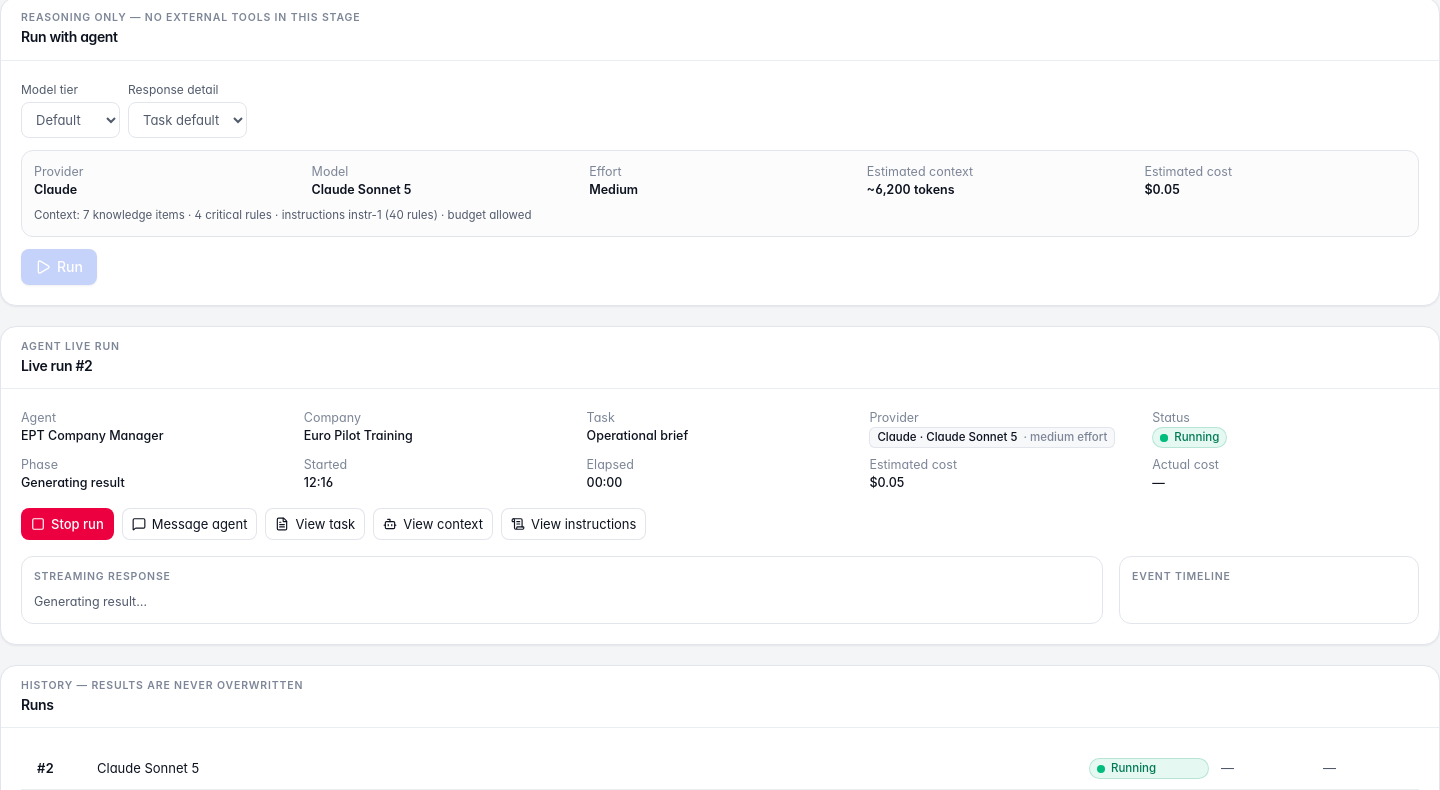
Test: Task run panel › shows history, a failed run and stops an active run
The width and height of the screenshot is (1440, 790).
What coordinates should you click on to do the following:
click the button "Stop run"
I would click on:
 (67, 524)
Its box is [21,508,114,540].
(page scrolled)
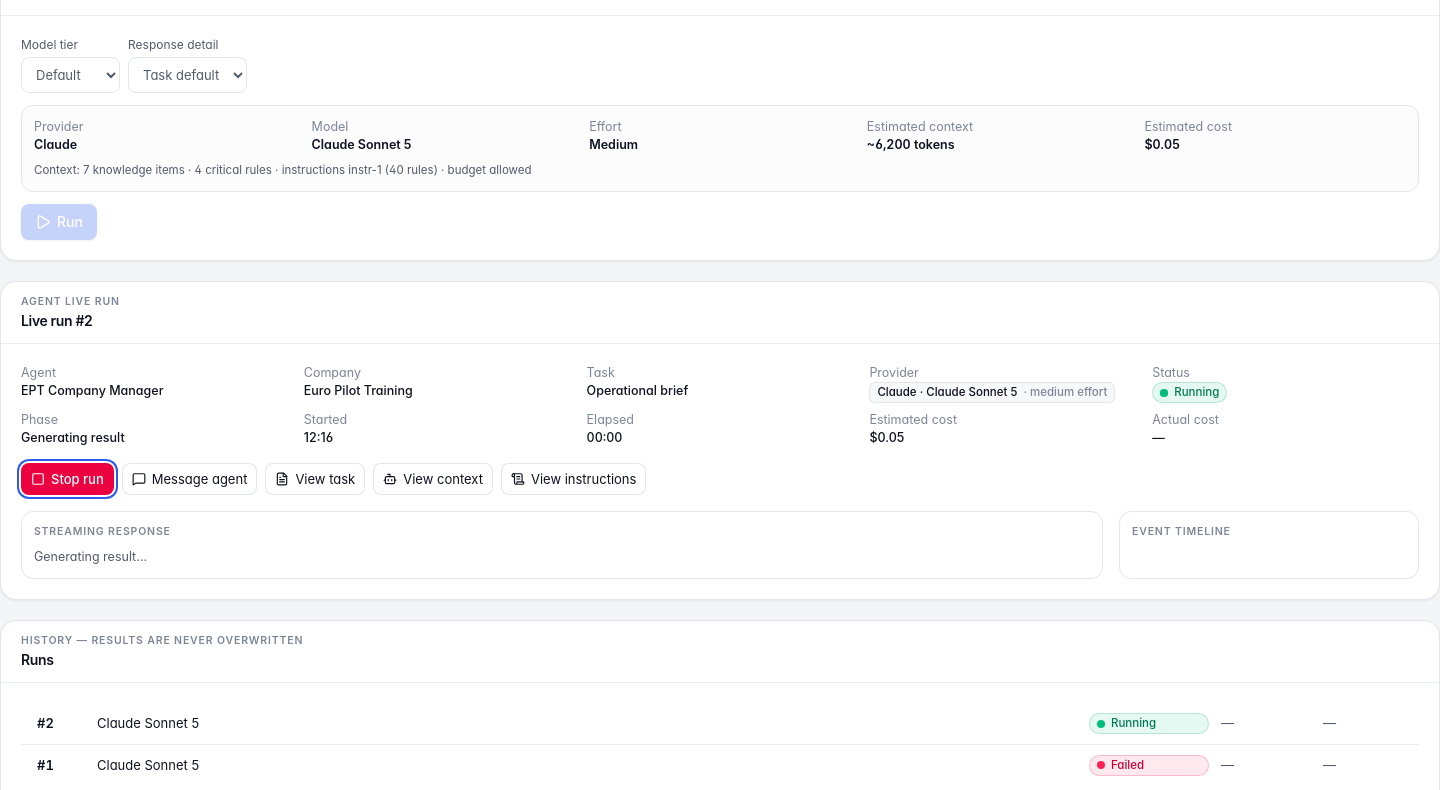
// Opening the failed run shows its error.
What coordinates should you click on to do the following:
click the button "#1 Claude Sonnet 5 Failed — —"
I would click on:
 (148, 765)
Its box is [21,745,1419,786].
(page scrolled)
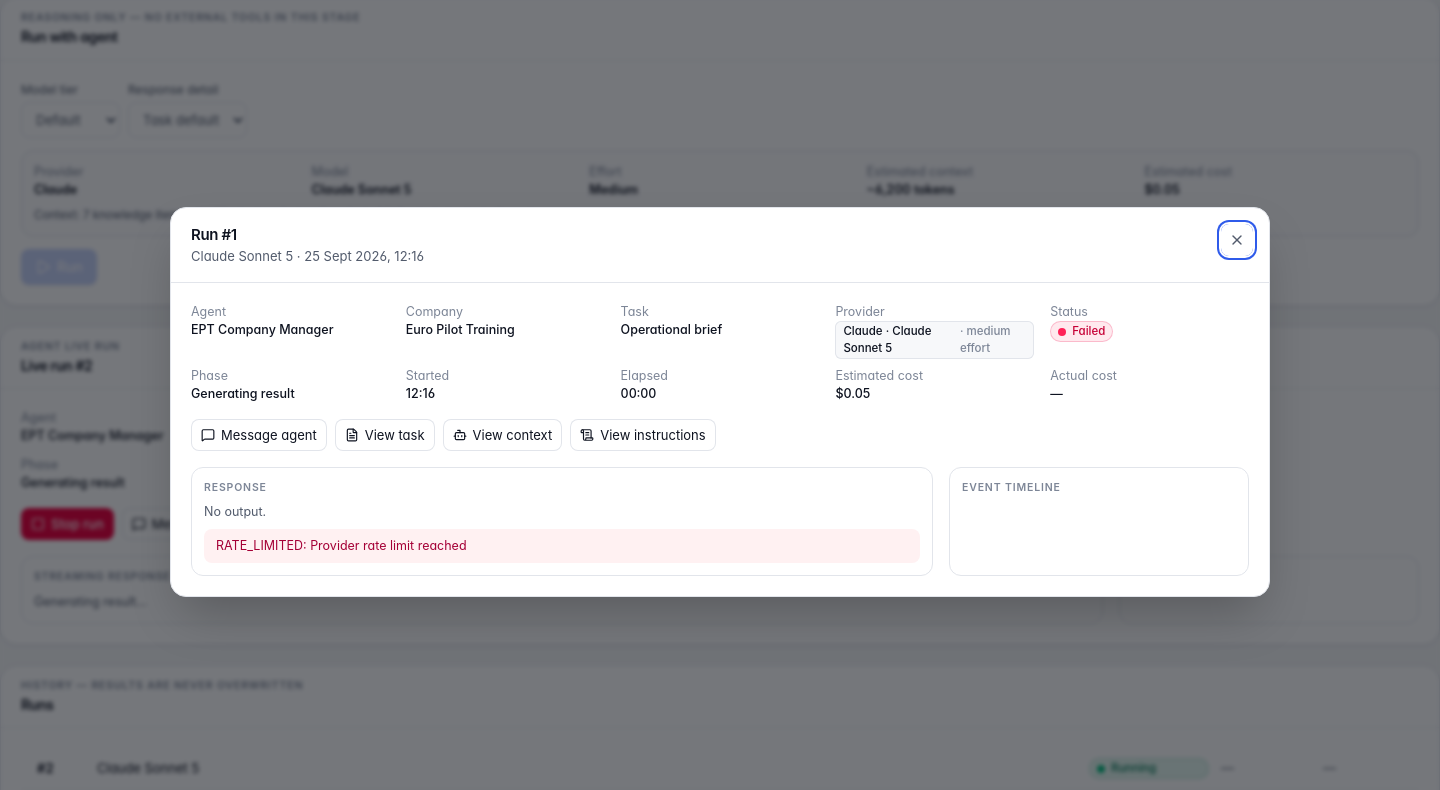
Expected: the message with test id "run-error" reads "RATE_LIMITED: Provider rate limit reached", [204,529,920,563]
